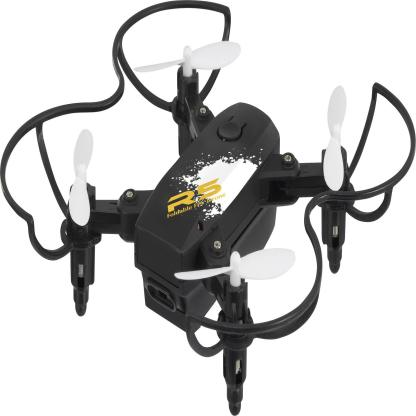drone: (43, 17, 405, 338)
